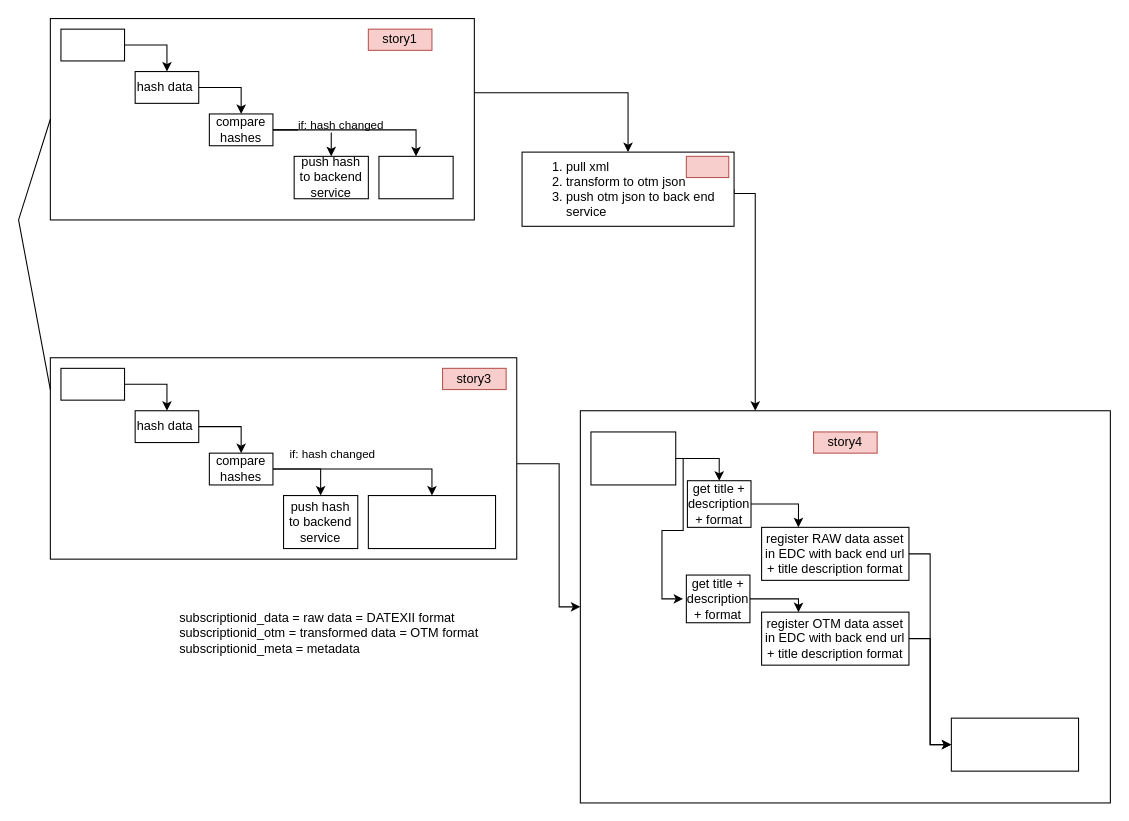
The diagram is 1129 pixels wide and 821 high, and some of its shapes have lost their labels. Here are the shapes that lost their labels. From the top down, the centre of each, then its label:
At point (92, 44): "pull data".
At point (415, 177): "push data to backend service".
At point (707, 166): "story2".
At point (92, 383): "pull metadata".
At point (633, 458): "pull metadata from backend service".
At point (431, 521): "push metadata (complete JSON-LD) to backend service".
At point (1014, 744): "update assetIDs in metadata registry".
